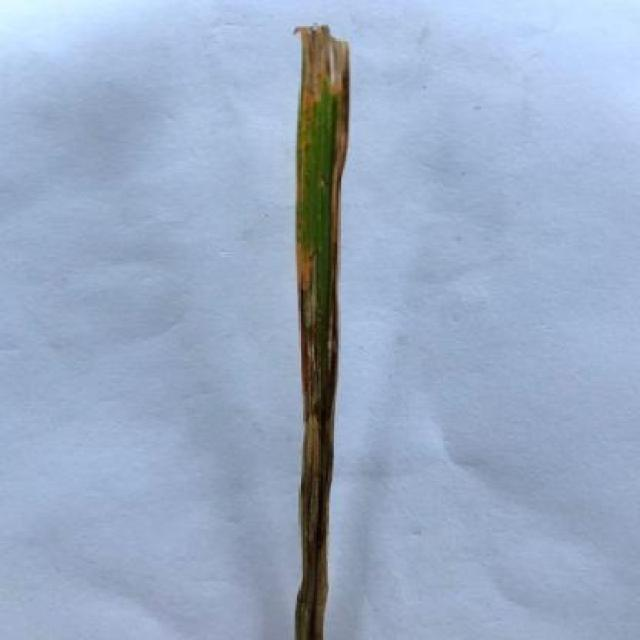Brown_Spot: (282, 4, 357, 640)
